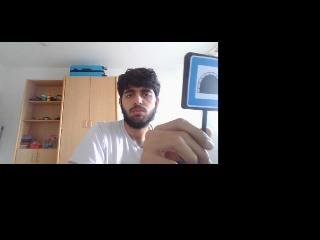tunnel: (181, 53, 217, 110)
